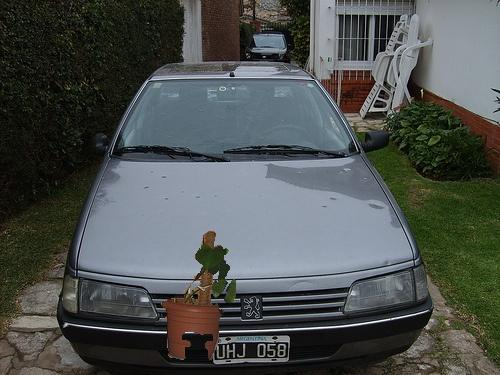tampered: (162, 232, 236, 360)
